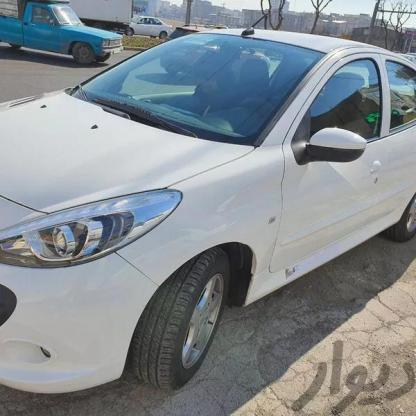Car: (0, 27, 416, 416), (0, 0, 117, 76), (114, 12, 172, 43)
